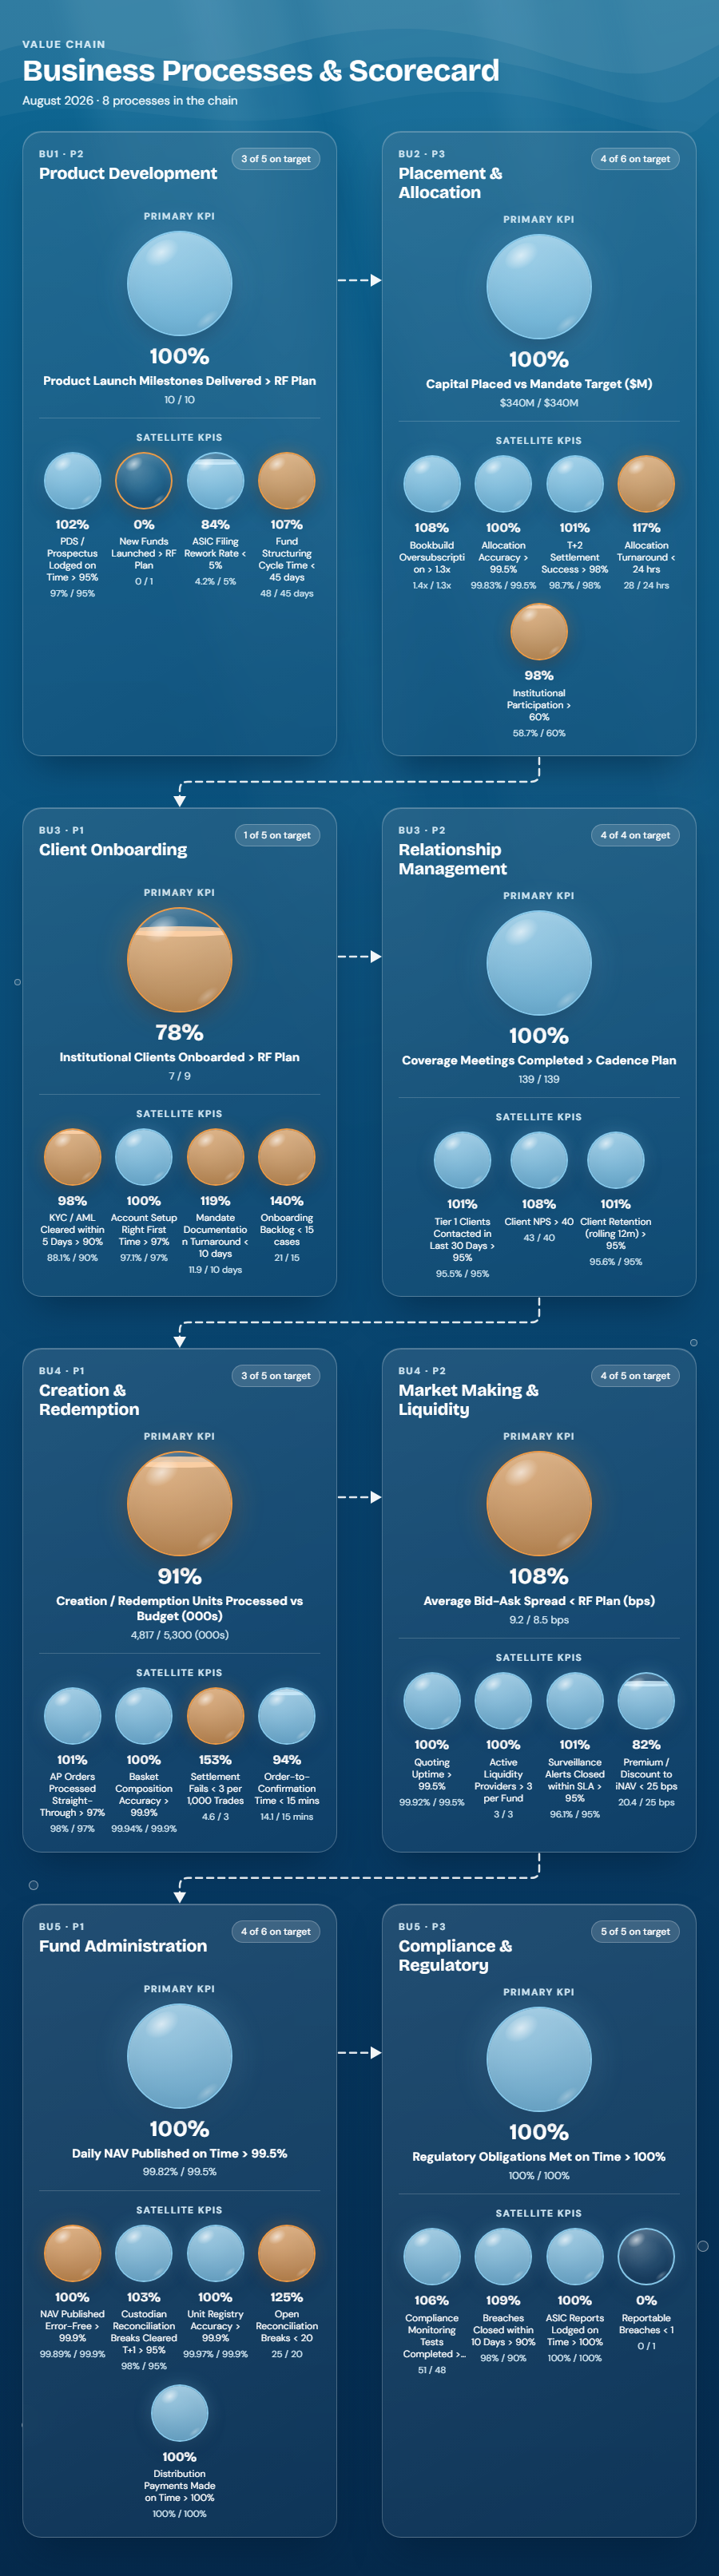

The page's visual inventory and layout, read from the dashboard file:
{"tool":"powerbi","page":{"name":"Page 1","canvas":[1920,1080],"ordinal":0},"visuals":[{"type":"valueChainVisualiserE2BF44FFB3A34F0CB6D06A2CB79AE14B","fields":{"node":["Query1.node"],"nodeOrder":["Query1.nodeOrder"],"group":["Query1.group"],"subGroup":["Query1.subGroup"],"metric":["Query1.metric"],"operator":["Query1.operator"],"valueType":["Query1.valueType"],"symbol":["Query1.symbol"],"year":["Query1.year"],"period":["Query1.period"],"actual":["Sum(Query1.actual)"],"budget":["Sum(Query1.budget)"]},"box":[10.6,72.4,1768.1,1006.3],"z":0},{"type":"slicer","fields":{"Values":["Query1.year"]},"box":[911.2,16.6,247.4,55.8],"z":1},{"type":"slicer","fields":{"Values":["Query1.period"]},"box":[1169.2,16.6,274.6,55.8],"z":2}]}

Visuals, with their boxes on the page's 1920x1080 design canvas (x1, y1, x2, y2). These are canvas units, not pixel positions in the 719x2576 screenshot, which may show the page scaled, cropped or inside an application window:
valueChainVisualiserE2BF44FFB3A34F0CB6D06A2CB79AE14B - Query1.node x Query1.nodeOrder: [x1=11, y1=72, x2=1779, y2=1079]
slicer - Query1.year: [x1=911, y1=17, x2=1159, y2=72]
slicer - Query1.period: [x1=1169, y1=17, x2=1444, y2=72]
